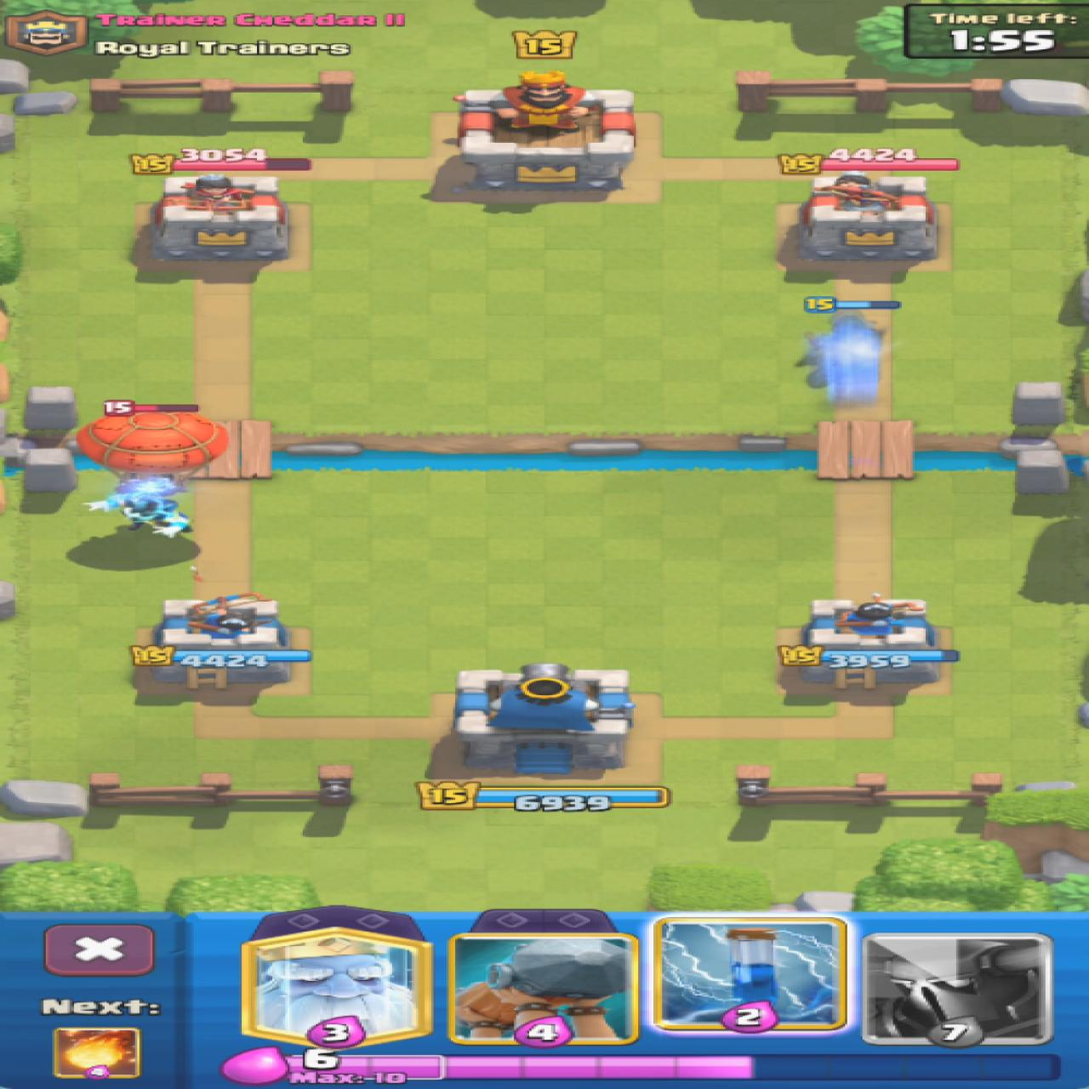Enemy-Balloon: (78, 409, 224, 497)
Enemy-KingTower: (457, 72, 634, 194)
Enemy-PrincessTower: (799, 172, 937, 263), (150, 174, 287, 260)
